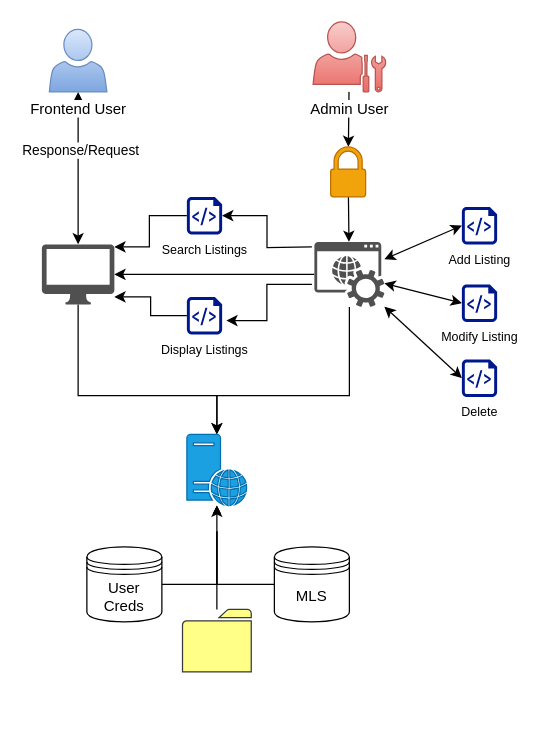
Image size: 540x739. Some labels were removed from this diagram. Here are the shapes that lost their labels. From the top down, the centre of each, then its label:
the point at 347,171: Credentials Required
the point at 77,274: Real Estate Frontend Site
the point at 349,273: IDX/MLS Dashboard
the point at 216,640: HTML, CSS, jS, Media
